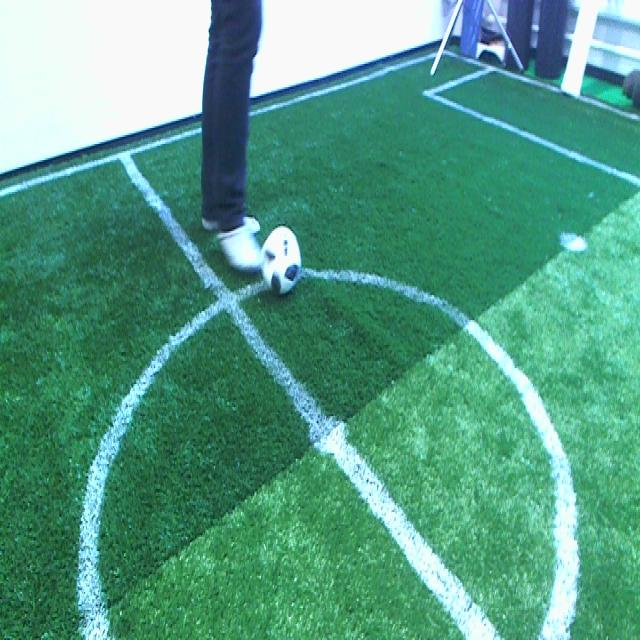ball: (261, 226, 300, 297)
